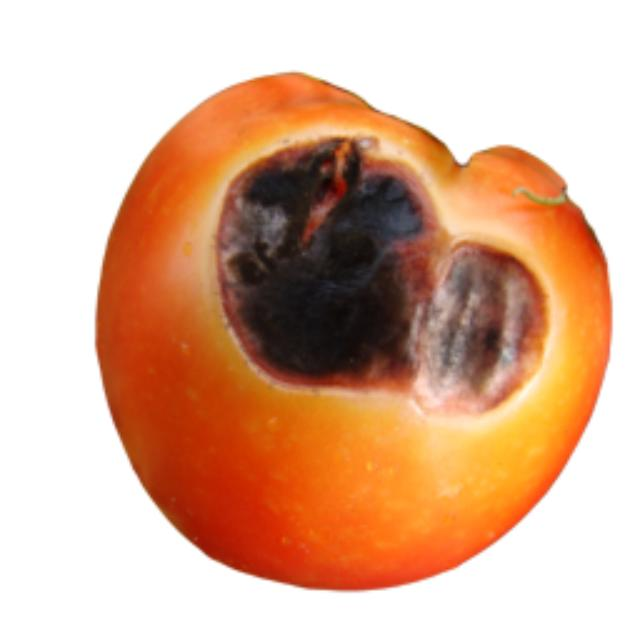defect: (87, 67, 616, 596)
